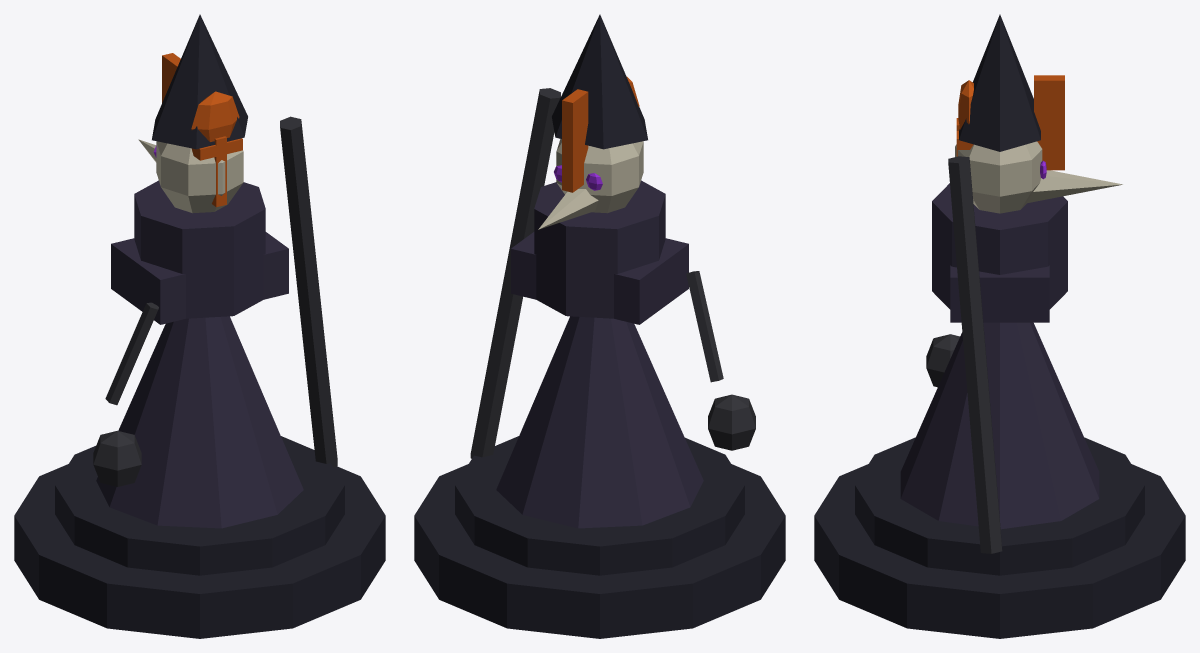
The model's file is bishop_plague_priest.obj.
3 views of the same model, side by side, from view 1: azimuth 30°, elevation 25°; view 2: azimuth 150°, elevation 25°; view 3: azimuth 270°, elevation 25° (orthographic).
Parts seen in each view (by area): view 1: bishop_plague; view 2: bishop_plague; view 3: bishop_plague.
Boxes of the visible parts, box(x1,y1,x2,y2) form: bishop_plague: box(14, 14, 385, 638); bishop_plague: box(414, 14, 785, 638); bishop_plague: box(814, 14, 1185, 638).
Bounding box in the file's own units: 0.6 × 0.974 × 0.6.
